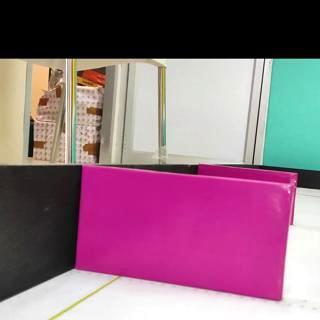xparking: (74, 166, 290, 301), (215, 166, 296, 184)
